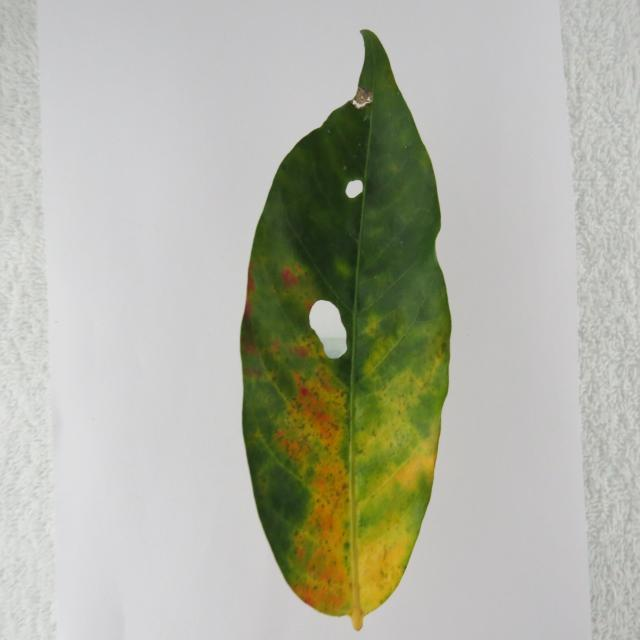DeficienciaNutricional-Fosforo: (241, 30, 451, 630)
